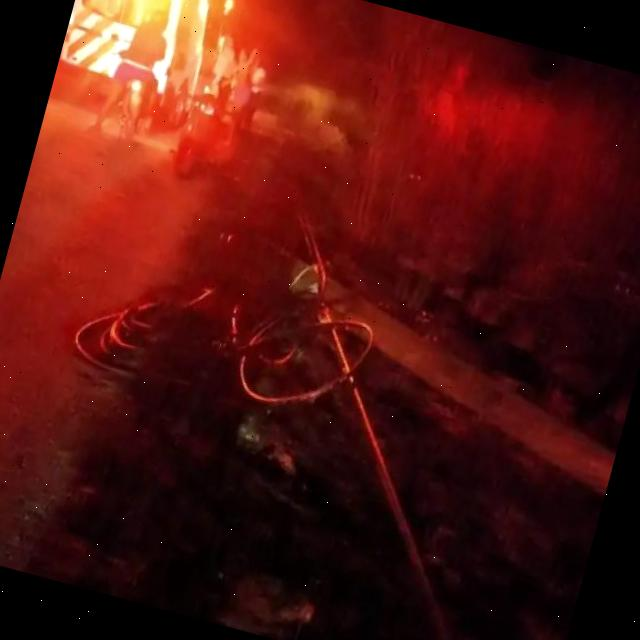Broken Pole: (179, 192, 640, 640)
